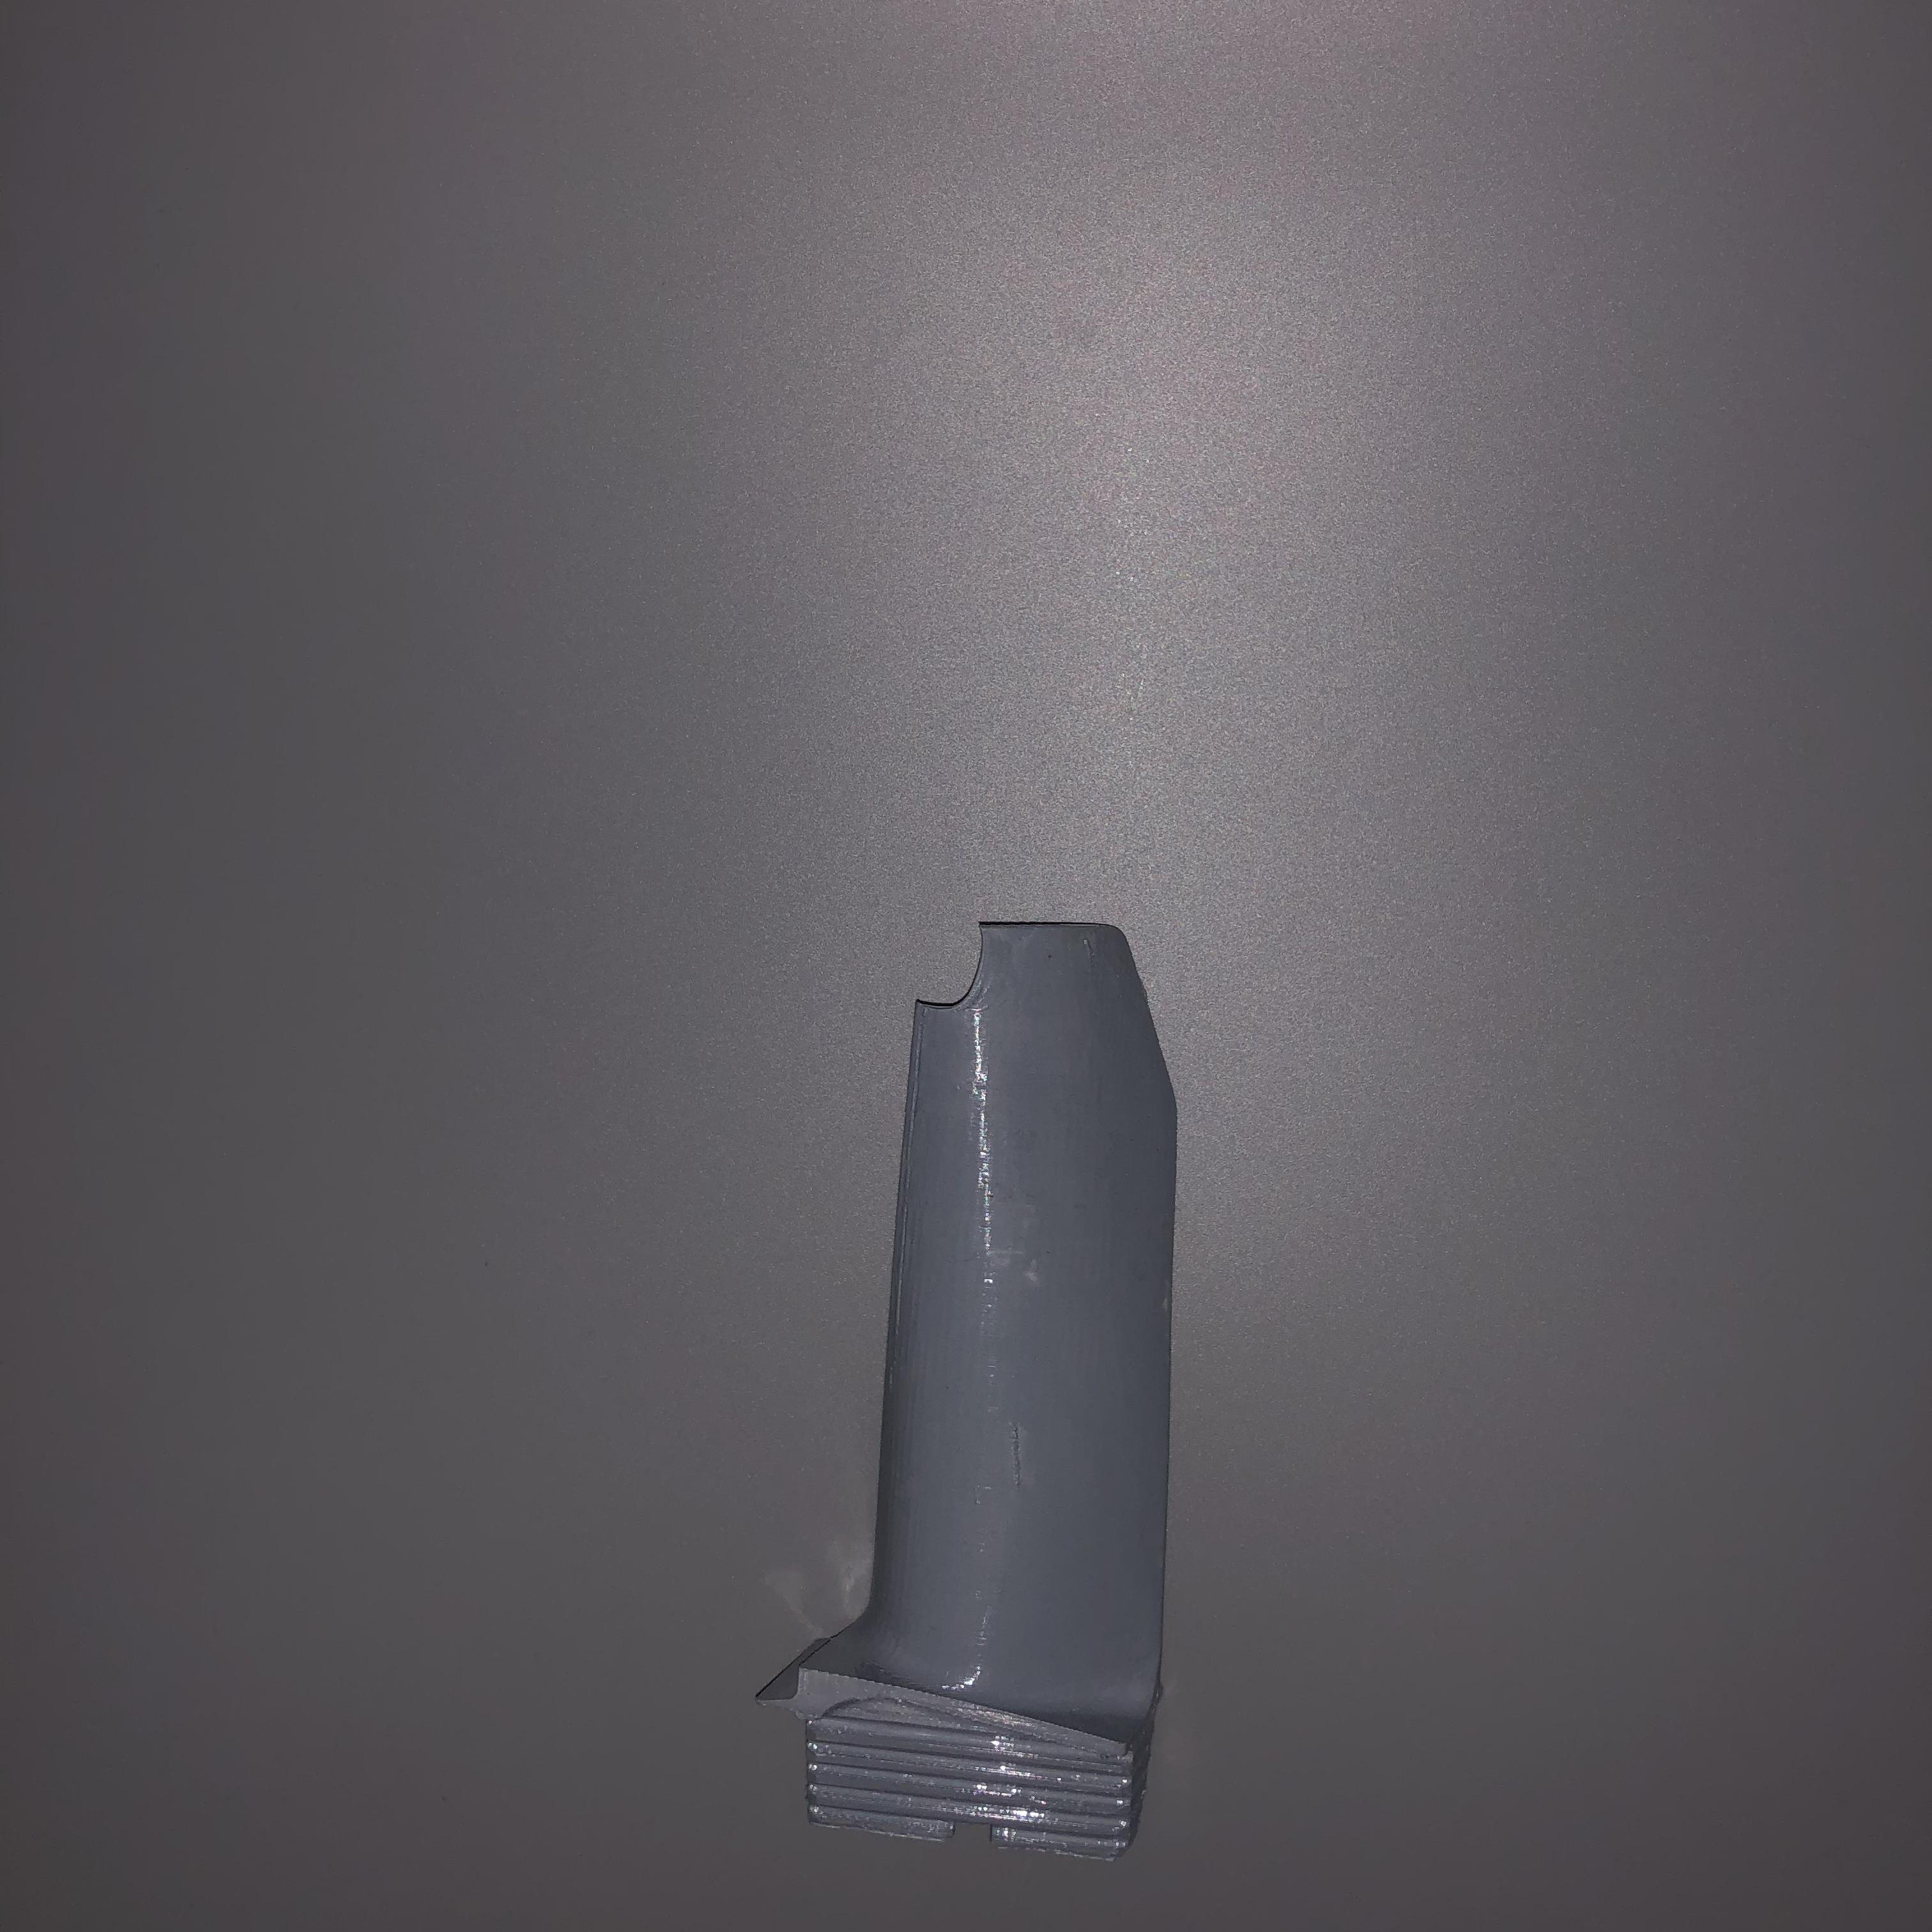fracture: (916, 932, 1008, 1021)
